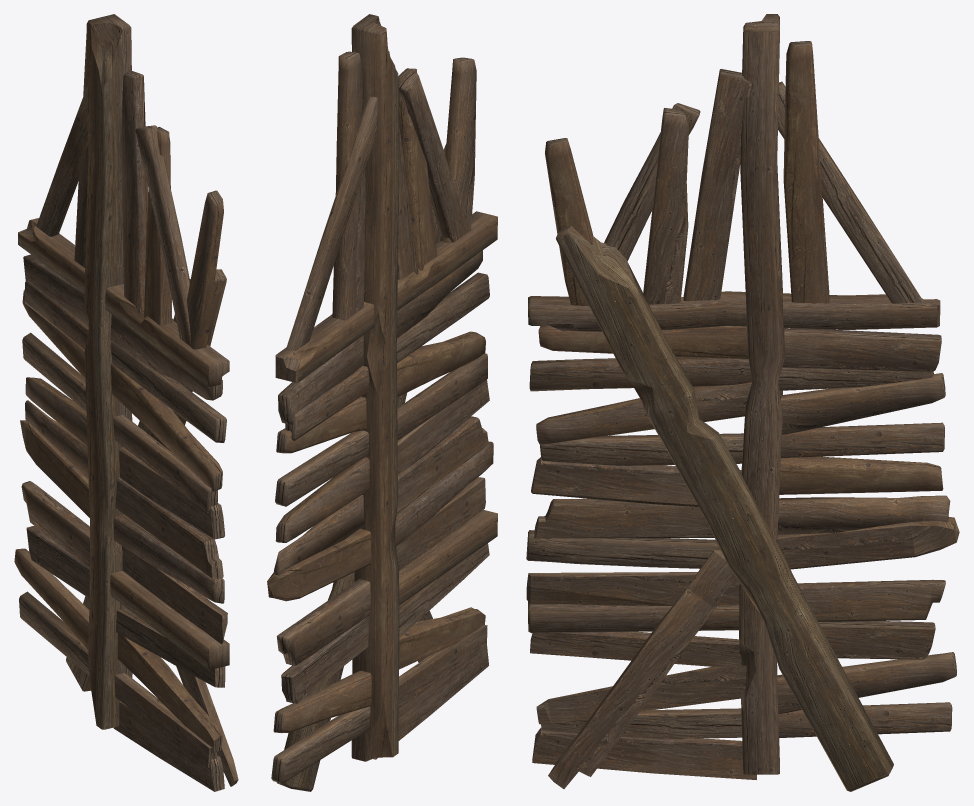
File: SM_Asy_MazeWallAddons2m_01.fbx
3 renders of one model, left to right at view 1: azimuth 30°, elevation 25°; view 2: azimuth 150°, elevation 25°; view 3: azimuth 270°, elevation 25°, orthographic. The views are drawn at different scales.
Visible parts, largest first — view 1: SM_Asy_MazeWallAddons2m_01.mo; view 2: SM_Asy_MazeWallAddons2m_01.mo; view 3: SM_Asy_MazeWallAddons2m_01.mo.
Boxes of the visible parts, box(x1,y1,x2,y2) form: SM_Asy_MazeWallAddons2m_01.mo: box(14, 14, 238, 791); SM_Asy_MazeWallAddons2m_01.mo: box(267, 14, 497, 791); SM_Asy_MazeWallAddons2m_01.mo: box(526, 14, 959, 791).
Size of the model in its own units: 35.39 by 468 by 244.
